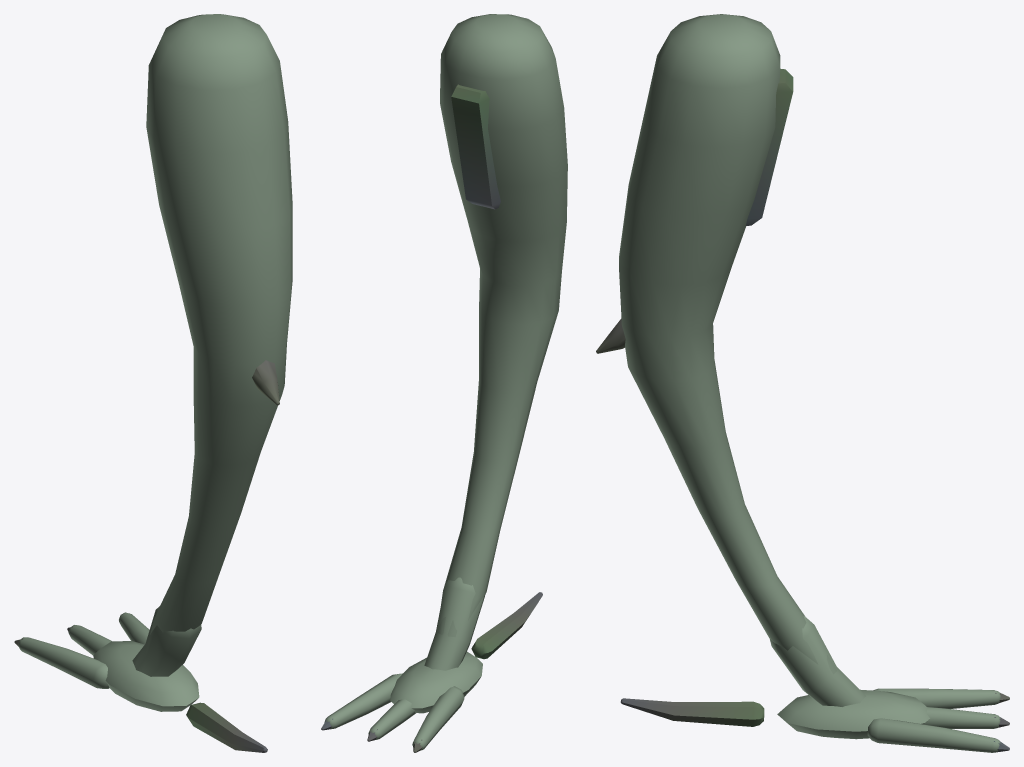
The model's file is shin_l.glb.
3 renders of one model, left to right at view 1: azimuth 30°, elevation 25°; view 2: azimuth 150°, elevation 25°; view 3: azimuth 270°, elevation 25°, orthographic. The views are drawn at different scales.
Parts seen in each view (by area): view 1: OUT; view 2: OUT; view 3: OUT.
Part boxes in pixels (<box>): OUT: <box>14,14,292,752</box>; OUT: <box>321,14,567,752</box>; OUT: <box>596,14,1009,752</box>.
Size of the model in its own units: 0.089 by 0.494 by 0.2616.
